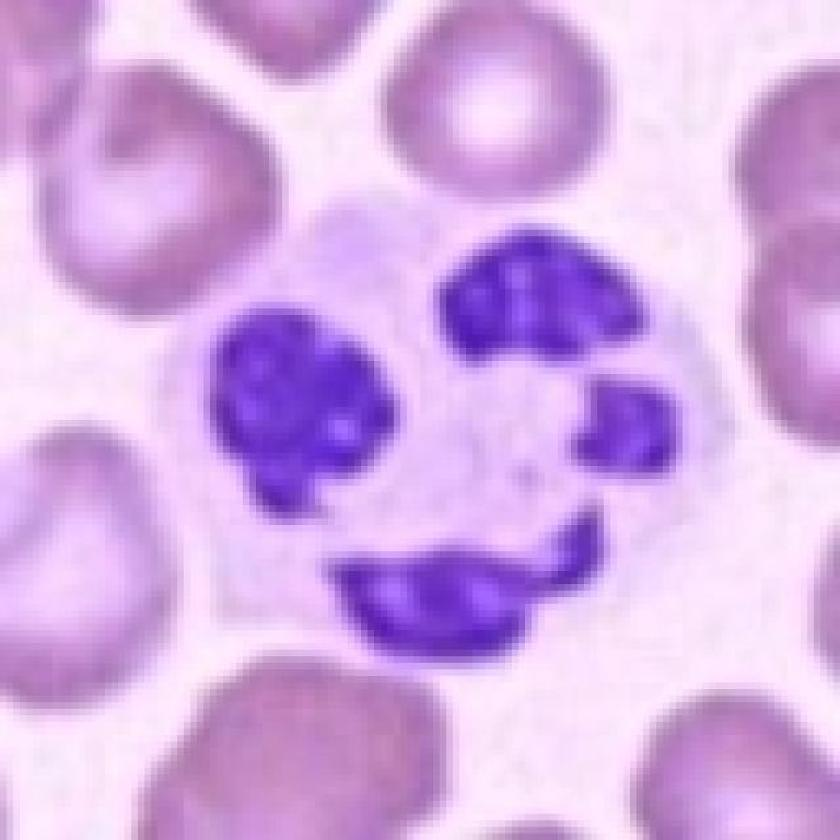neutrophil: (84, 154, 670, 654)
